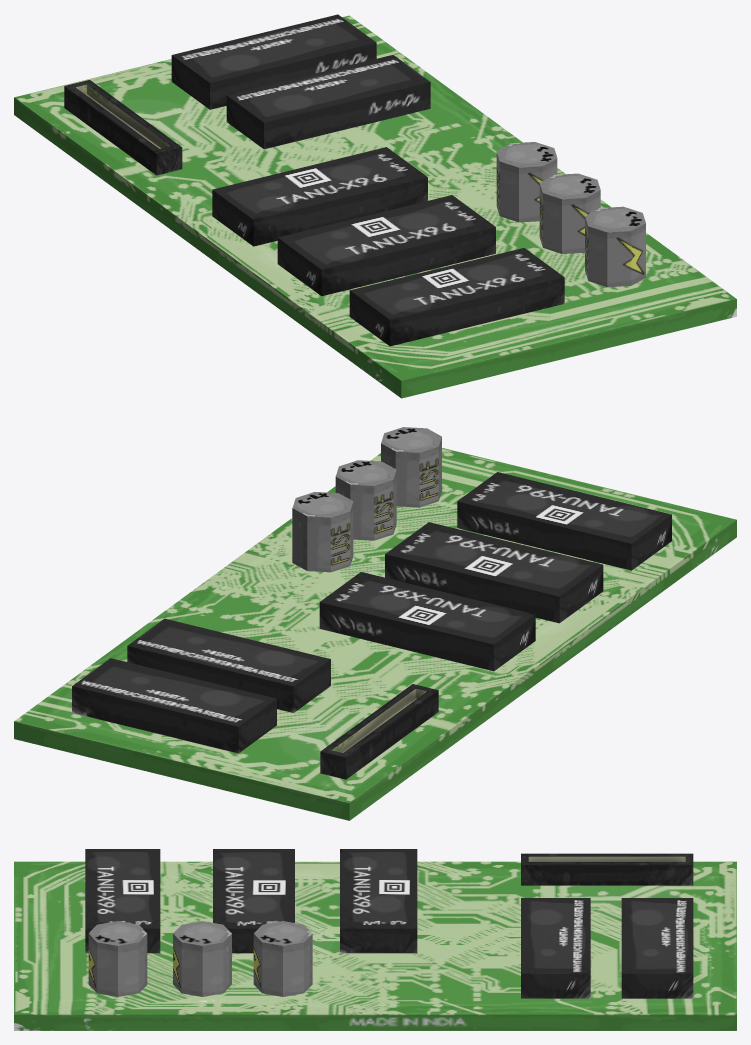
The model's file is sm_Mboard.fbx.
3 views of the same model, one above another, from view 1: azimuth 30°, elevation 25°; view 2: azimuth 150°, elevation 25°; view 3: azimuth 270°, elevation 25° (orthographic). The views are drawn at different scales.
Parts seen in each view (by area): view 1: group2; view 2: group2; view 3: group2.
Boxes of the visible parts, bbox=[...] form: group2: bbox=[14, 14, 736, 398]; group2: bbox=[14, 427, 736, 820]; group2: bbox=[14, 849, 736, 1030].
Size of the model in its own units: 171 by 35.26 by 342.
Materials: 1 (1 with a texture image).
